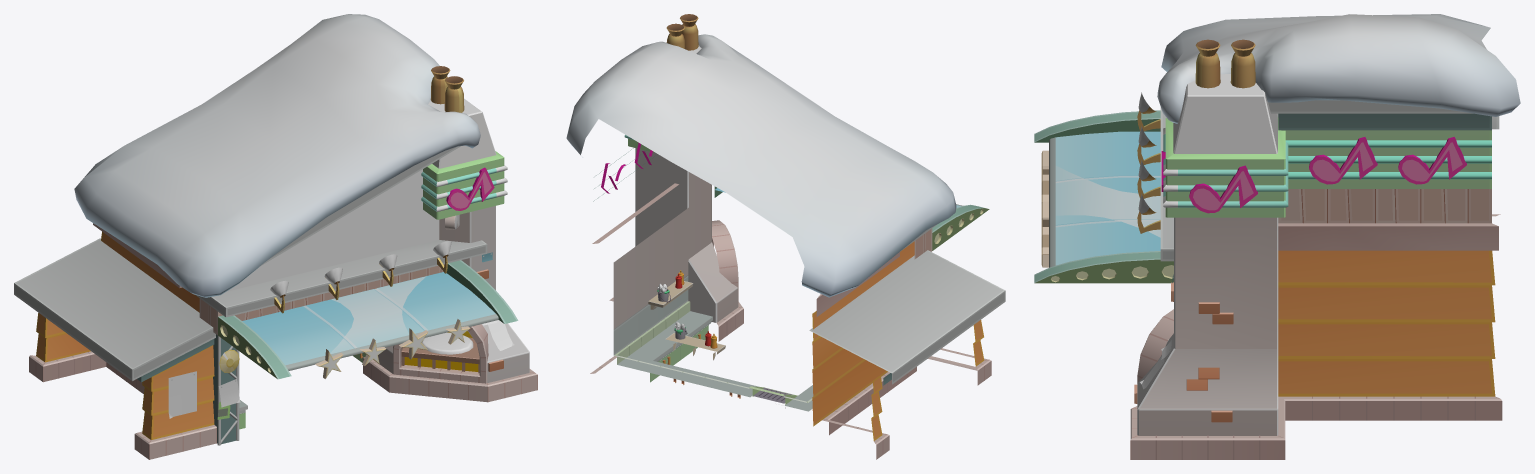
The model's file is frankysPizza_11.glb.
3 renders of one model, left to right at view 1: azimuth 30°, elevation 25°; view 2: azimuth 150°, elevation 25°; view 3: azimuth 270°, elevation 25°, orthographic. The views are drawn at different scales.
Visible parts, largest first — view 1: frankysPizza; view 2: frankysPizza; view 3: frankysPizza.
Part boxes in pixels (x1,y1,x2,y2): frankysPizza: (14, 14, 537, 459); frankysPizza: (566, 14, 1005, 459); frankysPizza: (1034, 14, 1520, 459).
Bounding box in the file's own units: 8.88 × 6.86 × 7.76.
